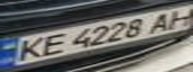2: (106, 19, 133, 44), (90, 23, 112, 48)
4: (69, 26, 93, 51)
8: (124, 16, 154, 39)
A: (142, 10, 181, 35)
E: (33, 30, 72, 57)
H: (157, 6, 193, 31)
K: (6, 35, 51, 63)
